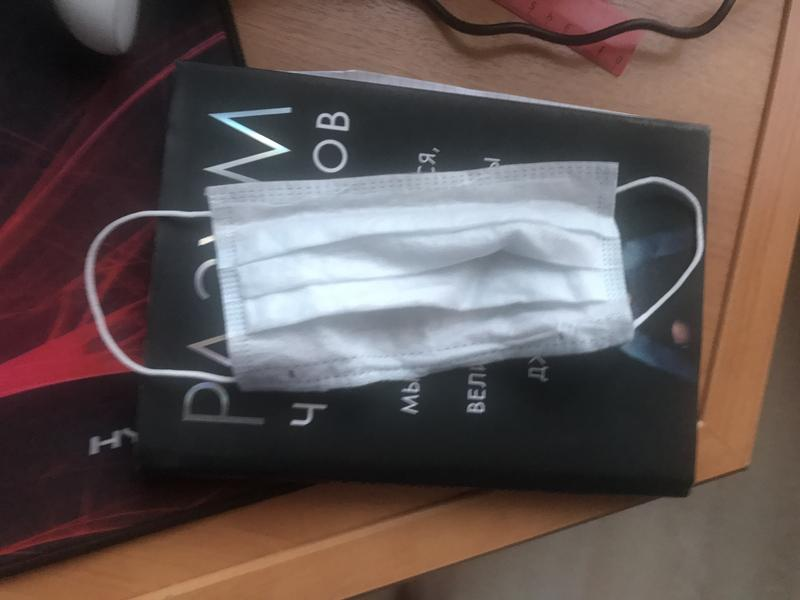medical_mask: (87, 159, 706, 390)
